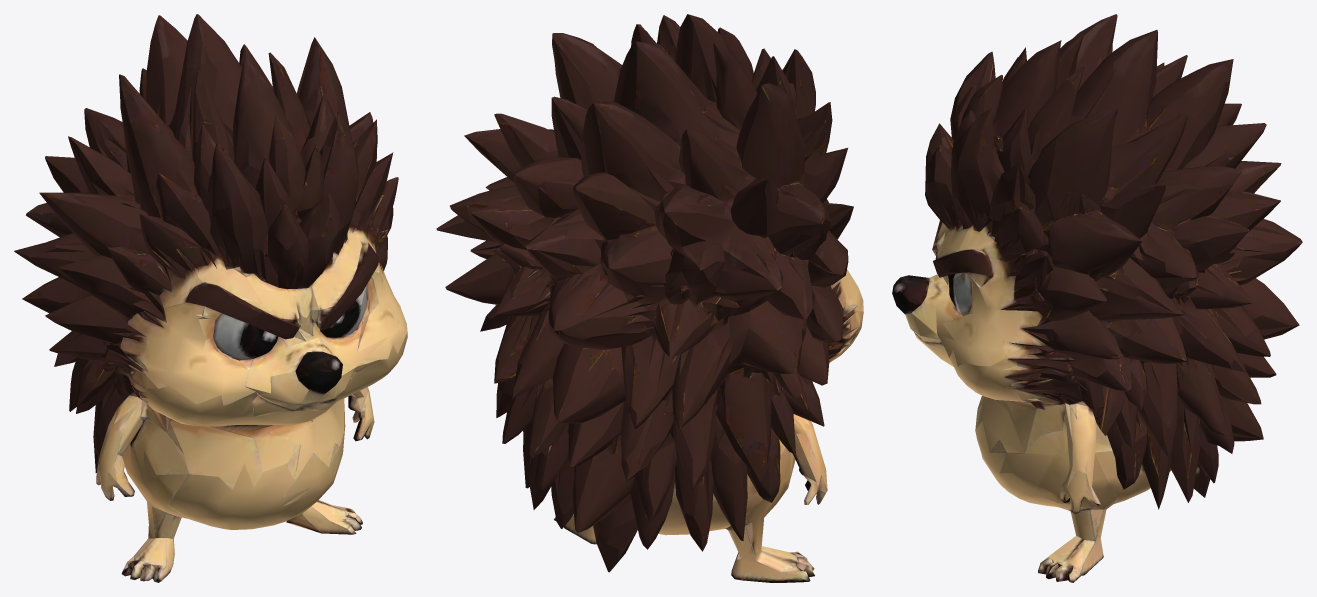
File: kirpi.glb
The picture shows the model from 3 angles, left to right: view 1: azimuth 30°, elevation 25°; view 2: azimuth 150°, elevation 25°; view 3: azimuth 270°, elevation 25°; orthographic projection. The views are drawn at different scales.
Size of the model in its own units: 1.35 by 1.9 by 1.43.
Materials: 1 (1 with a texture image).
